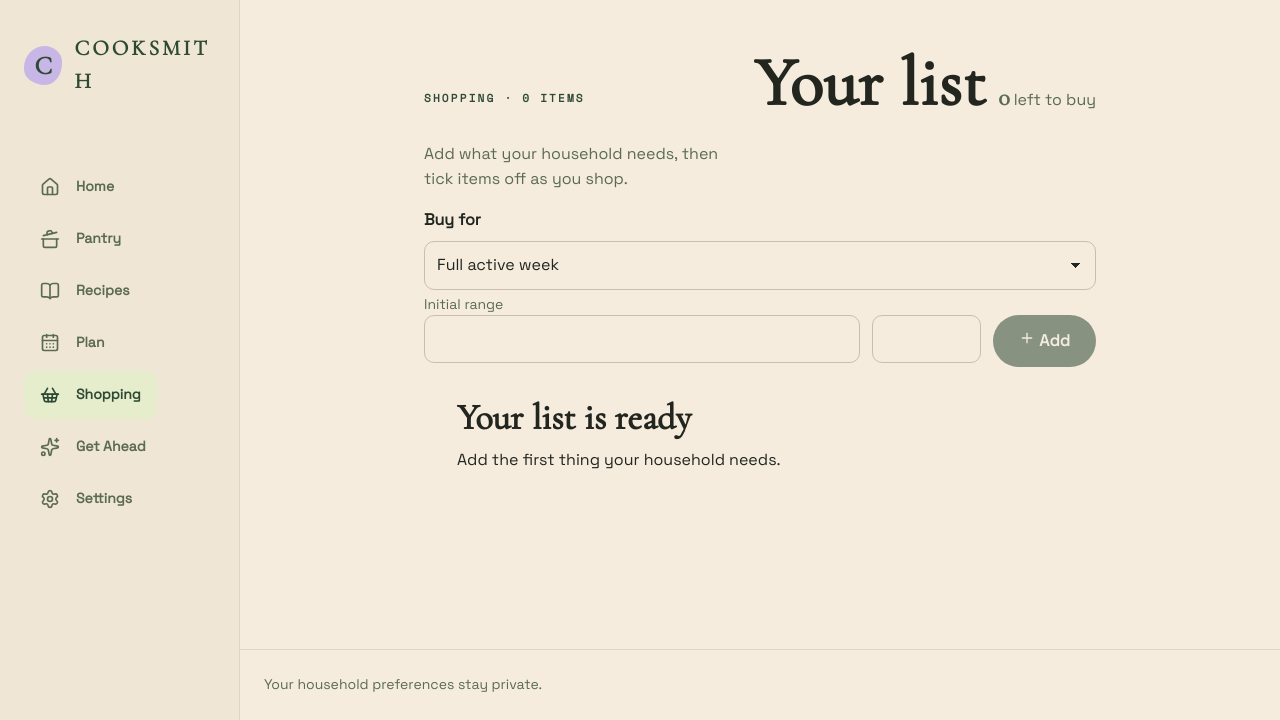
ignores a stale background resolve after an automatic selection
Expected: the text "Initial range" is shown, [424,295,503,313]
Select "Next 3 planned meals" in the dropdown labelled "Buy for" at (760, 265), box [424,241,1096,290]
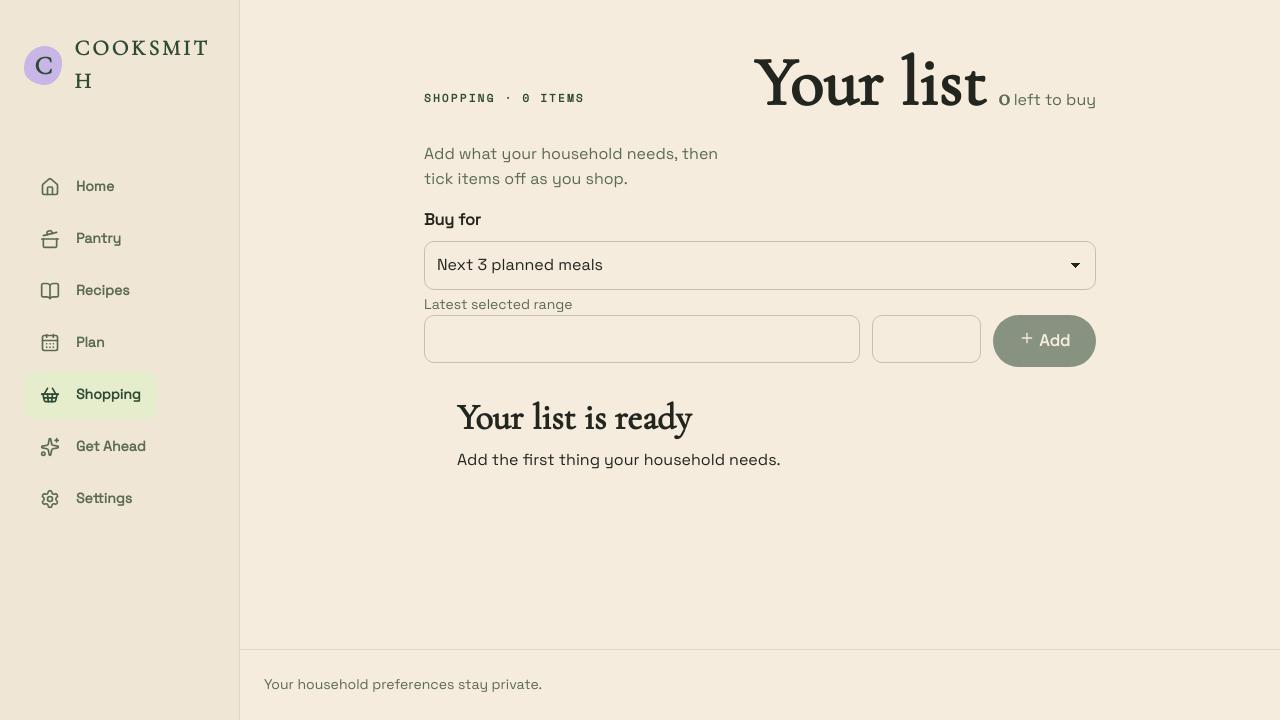
Result: the text "Latest selected range" is shown at [424,295,572,313]
